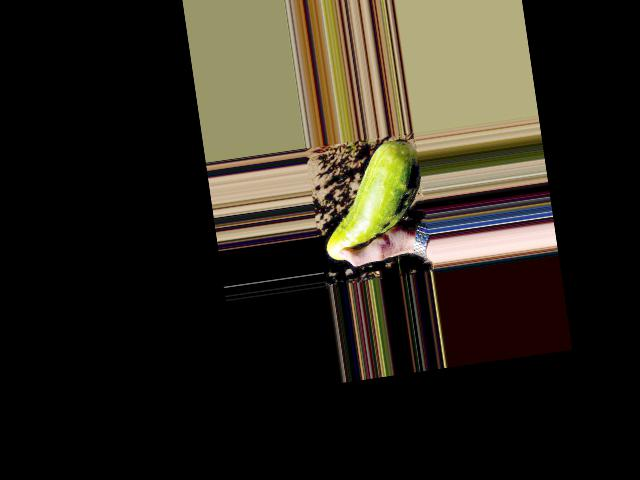cucumber: (313, 136, 431, 261)
